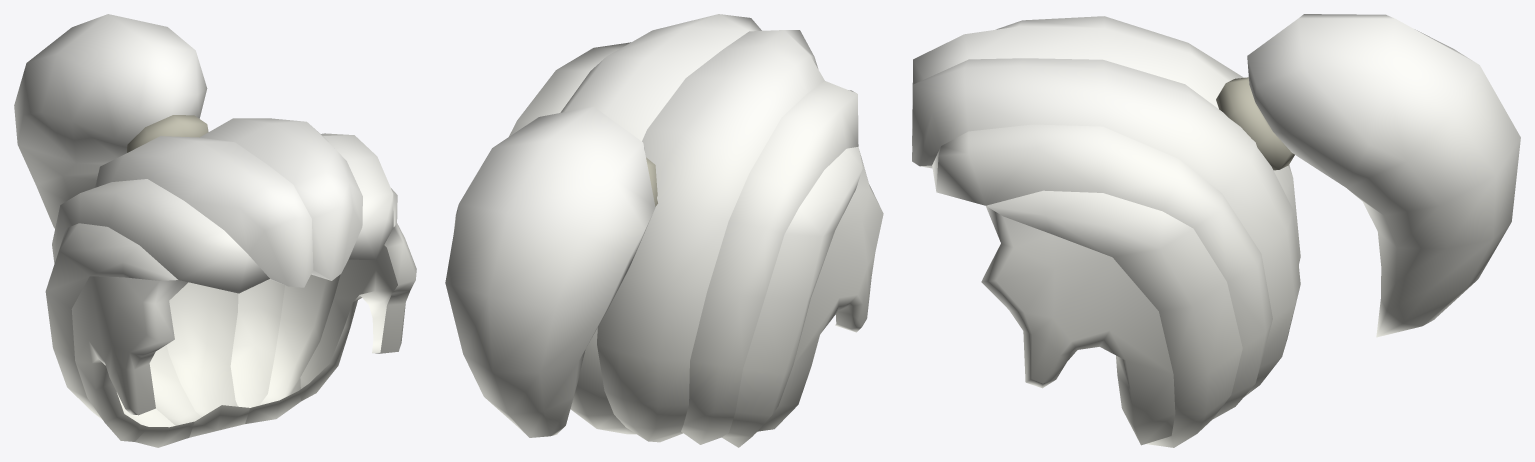
File: Hair_White_11.fbx
The picture shows the model from 3 angles, left to right: view 1: azimuth 30°, elevation 25°; view 2: azimuth 150°, elevation 25°; view 3: azimuth 270°, elevation 25°; orthographic projection. The views are drawn at different scales.
Parts seen in each view (by area): view 1: Hair_White_11; view 2: Hair_White_11; view 3: Hair_White_11.
Part boxes in pixels (x1,y1,x2,y2): Hair_White_11: (14, 14, 416, 447); Hair_White_11: (445, 14, 883, 447); Hair_White_11: (912, 14, 1520, 447).
Size of the model in its own units: 54.98 by 59.13 by 83.25.
